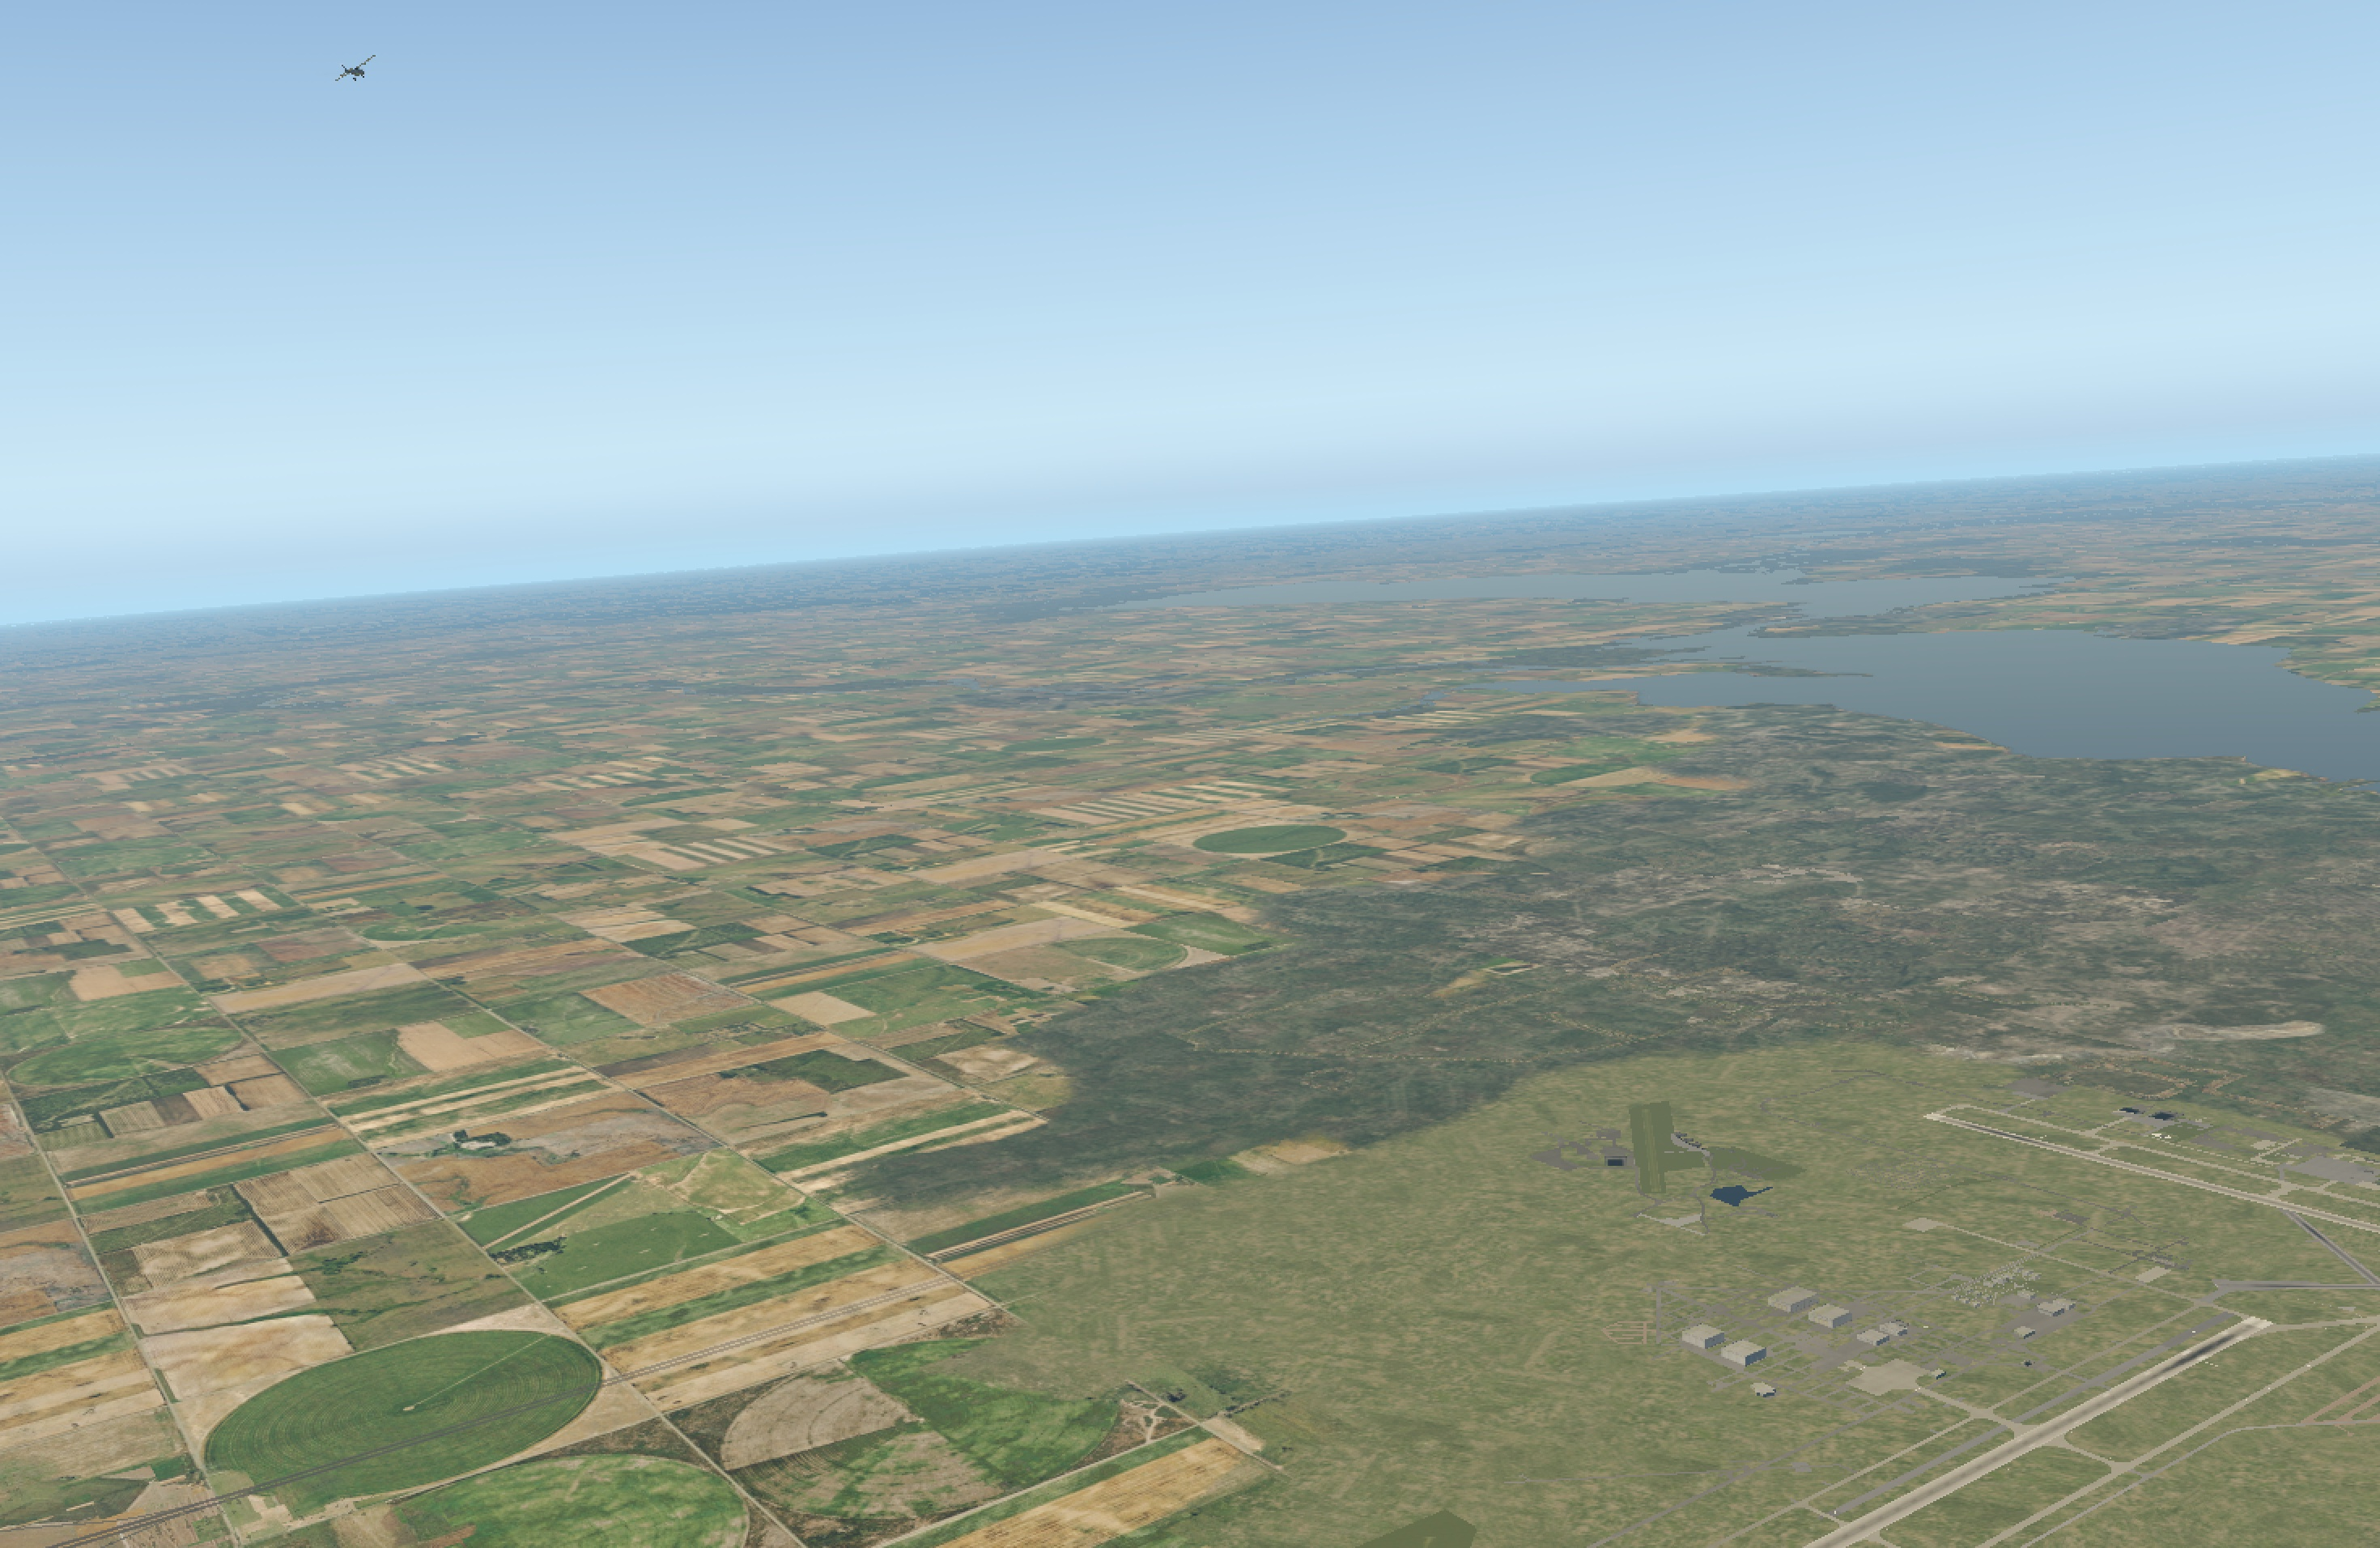aircraft: (340, 66, 373, 78)
